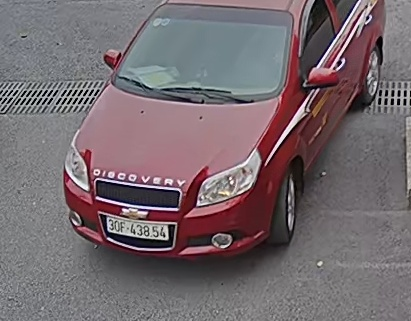vehicle plate: (103, 216, 169, 241)
